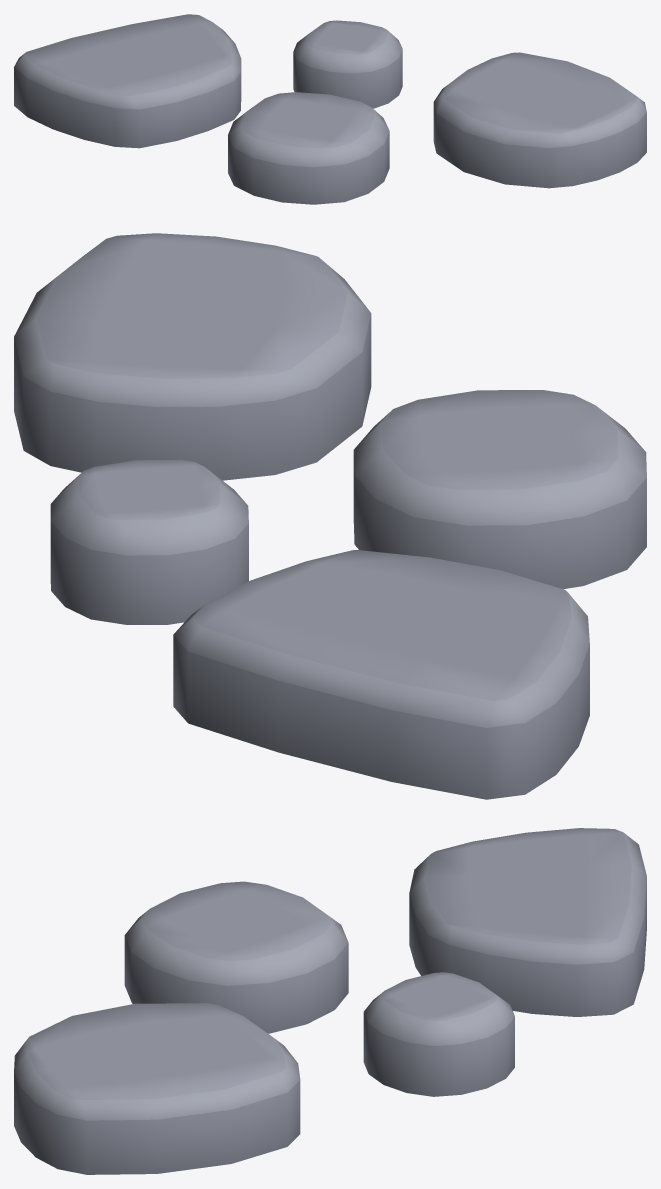
The model's file is cobblestones.fbx.
3 views of the same model, one above another, from view 1: azimuth 30°, elevation 25°; view 2: azimuth 150°, elevation 25°; view 3: azimuth 270°, elevation 25° (orthographic). The views are drawn at different scales.
Visible parts, largest first — view 1: cobblestones; view 2: cobblestones; view 3: cobblestones.
Part boxes in pixels (left/top/right/bottom): cobblestones: left=14, top=14, right=646, bottom=204; cobblestones: left=14, top=233, right=646, bottom=799; cobblestones: left=14, top=828, right=646, bottom=1174.
Size of the model in its own units: 1.79 by 0.1988 by 1.66.
